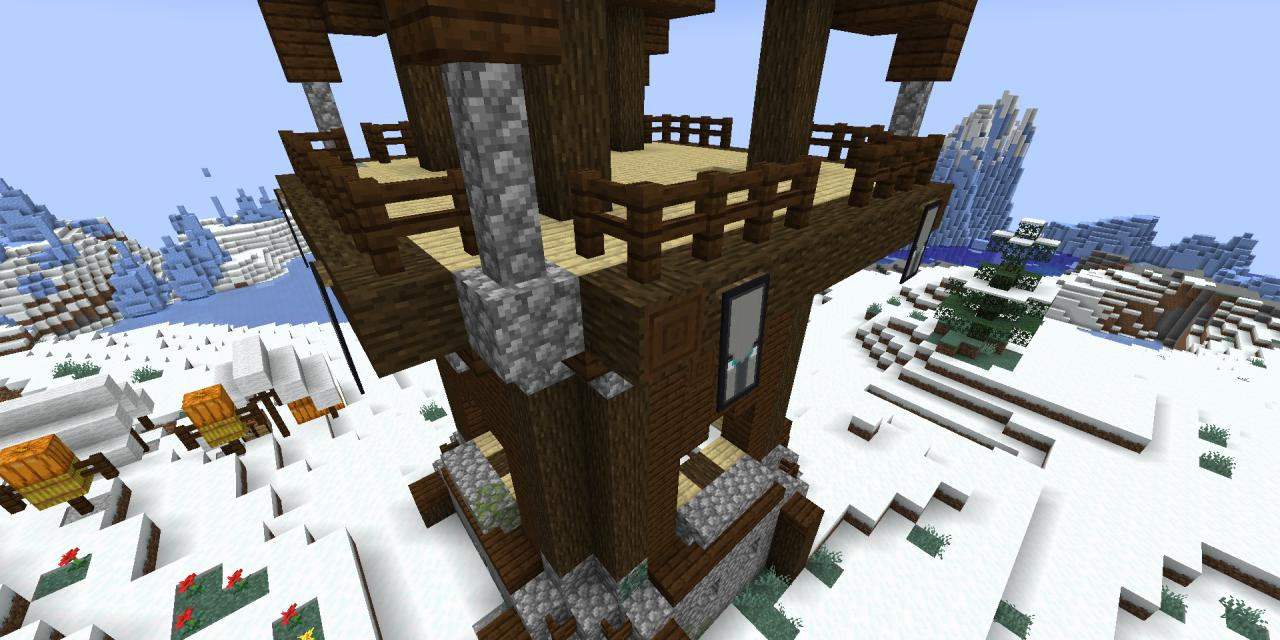pillager outpost: (246, 0, 997, 640)
